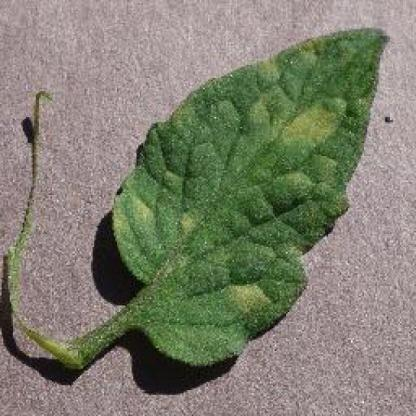Tomato_Leaf_Mold: (114, 27, 390, 361)
